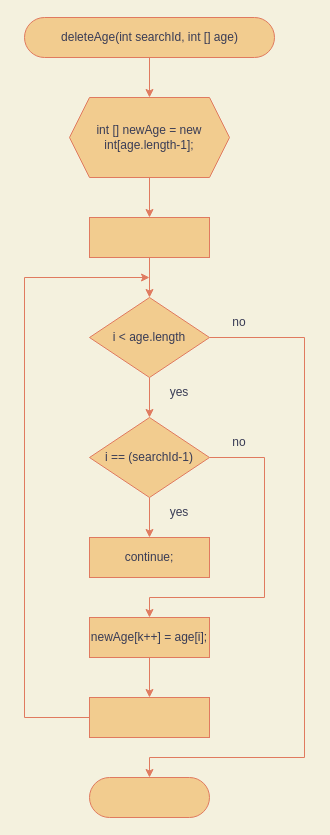
The diagram is 330 pixels wide and 835 high, and some of its shapes have lost their labels. Each missing label, with the box of its shape:
i++: (88, 696, 210, 738)
int i = 0, k = 0: (88, 216, 210, 258)
return newAge: (88, 776, 210, 818)
